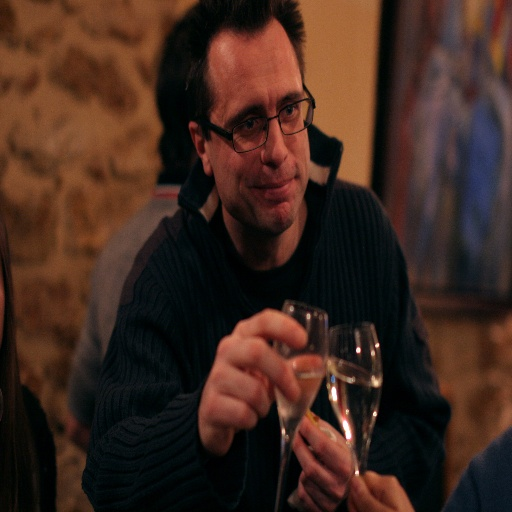hand: (184, 300, 340, 454), (286, 405, 357, 511), (345, 465, 416, 511)
